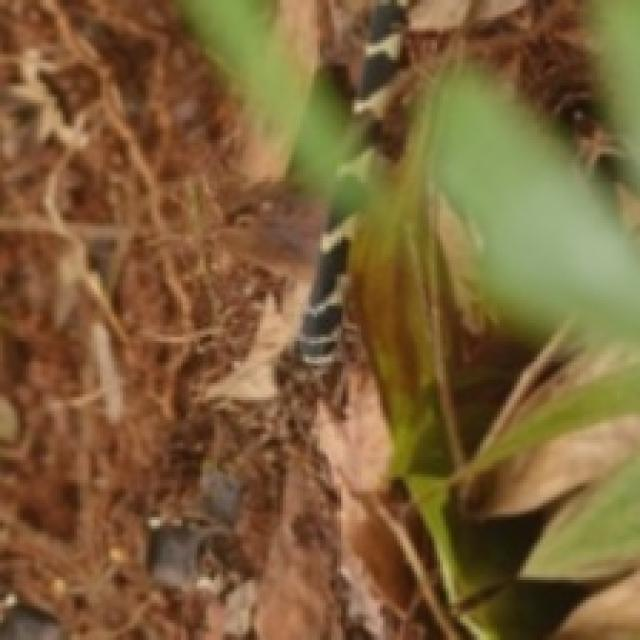king cobra: (294, 0, 637, 363)
